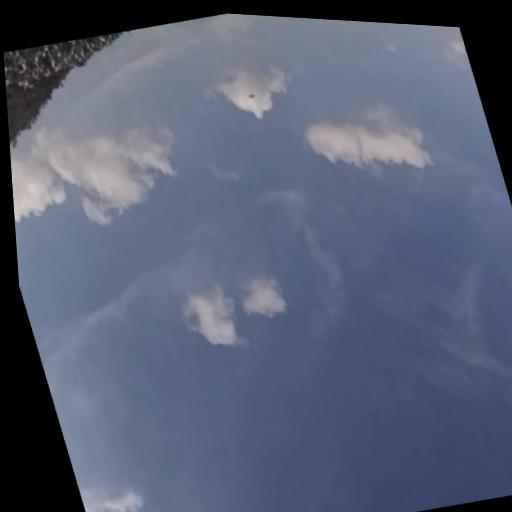drones: (241, 84, 260, 105)
